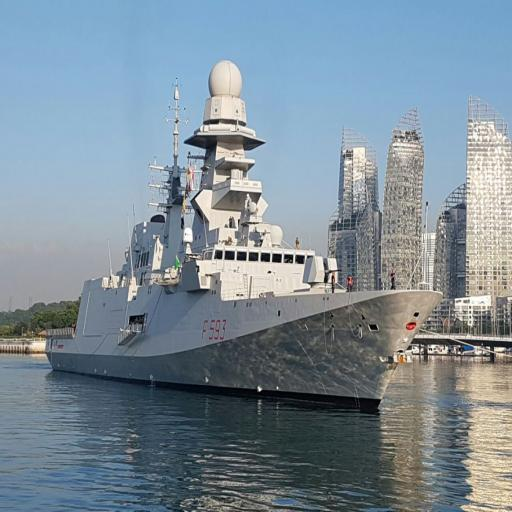Fragata: (44, 34, 448, 409)
